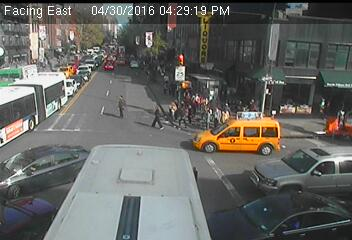pos: (146, 101, 171, 134), (112, 94, 131, 120), (174, 102, 193, 127), (216, 104, 234, 127), (184, 105, 197, 122)
